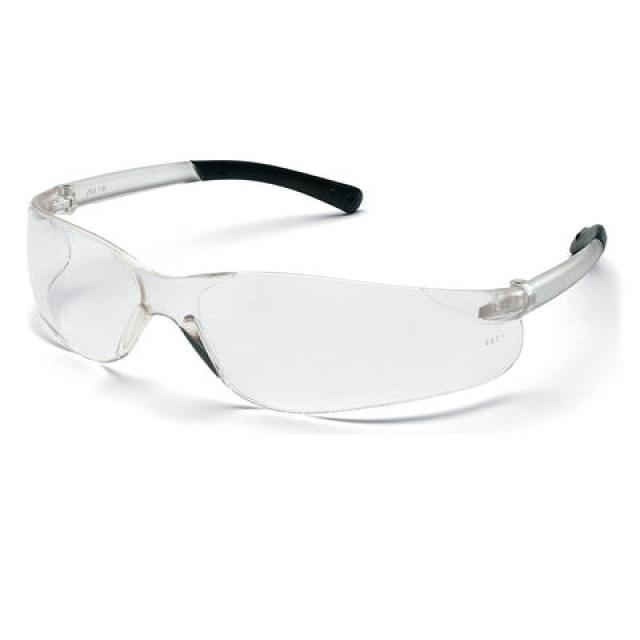Protective Glasses: (24, 149, 613, 463)
